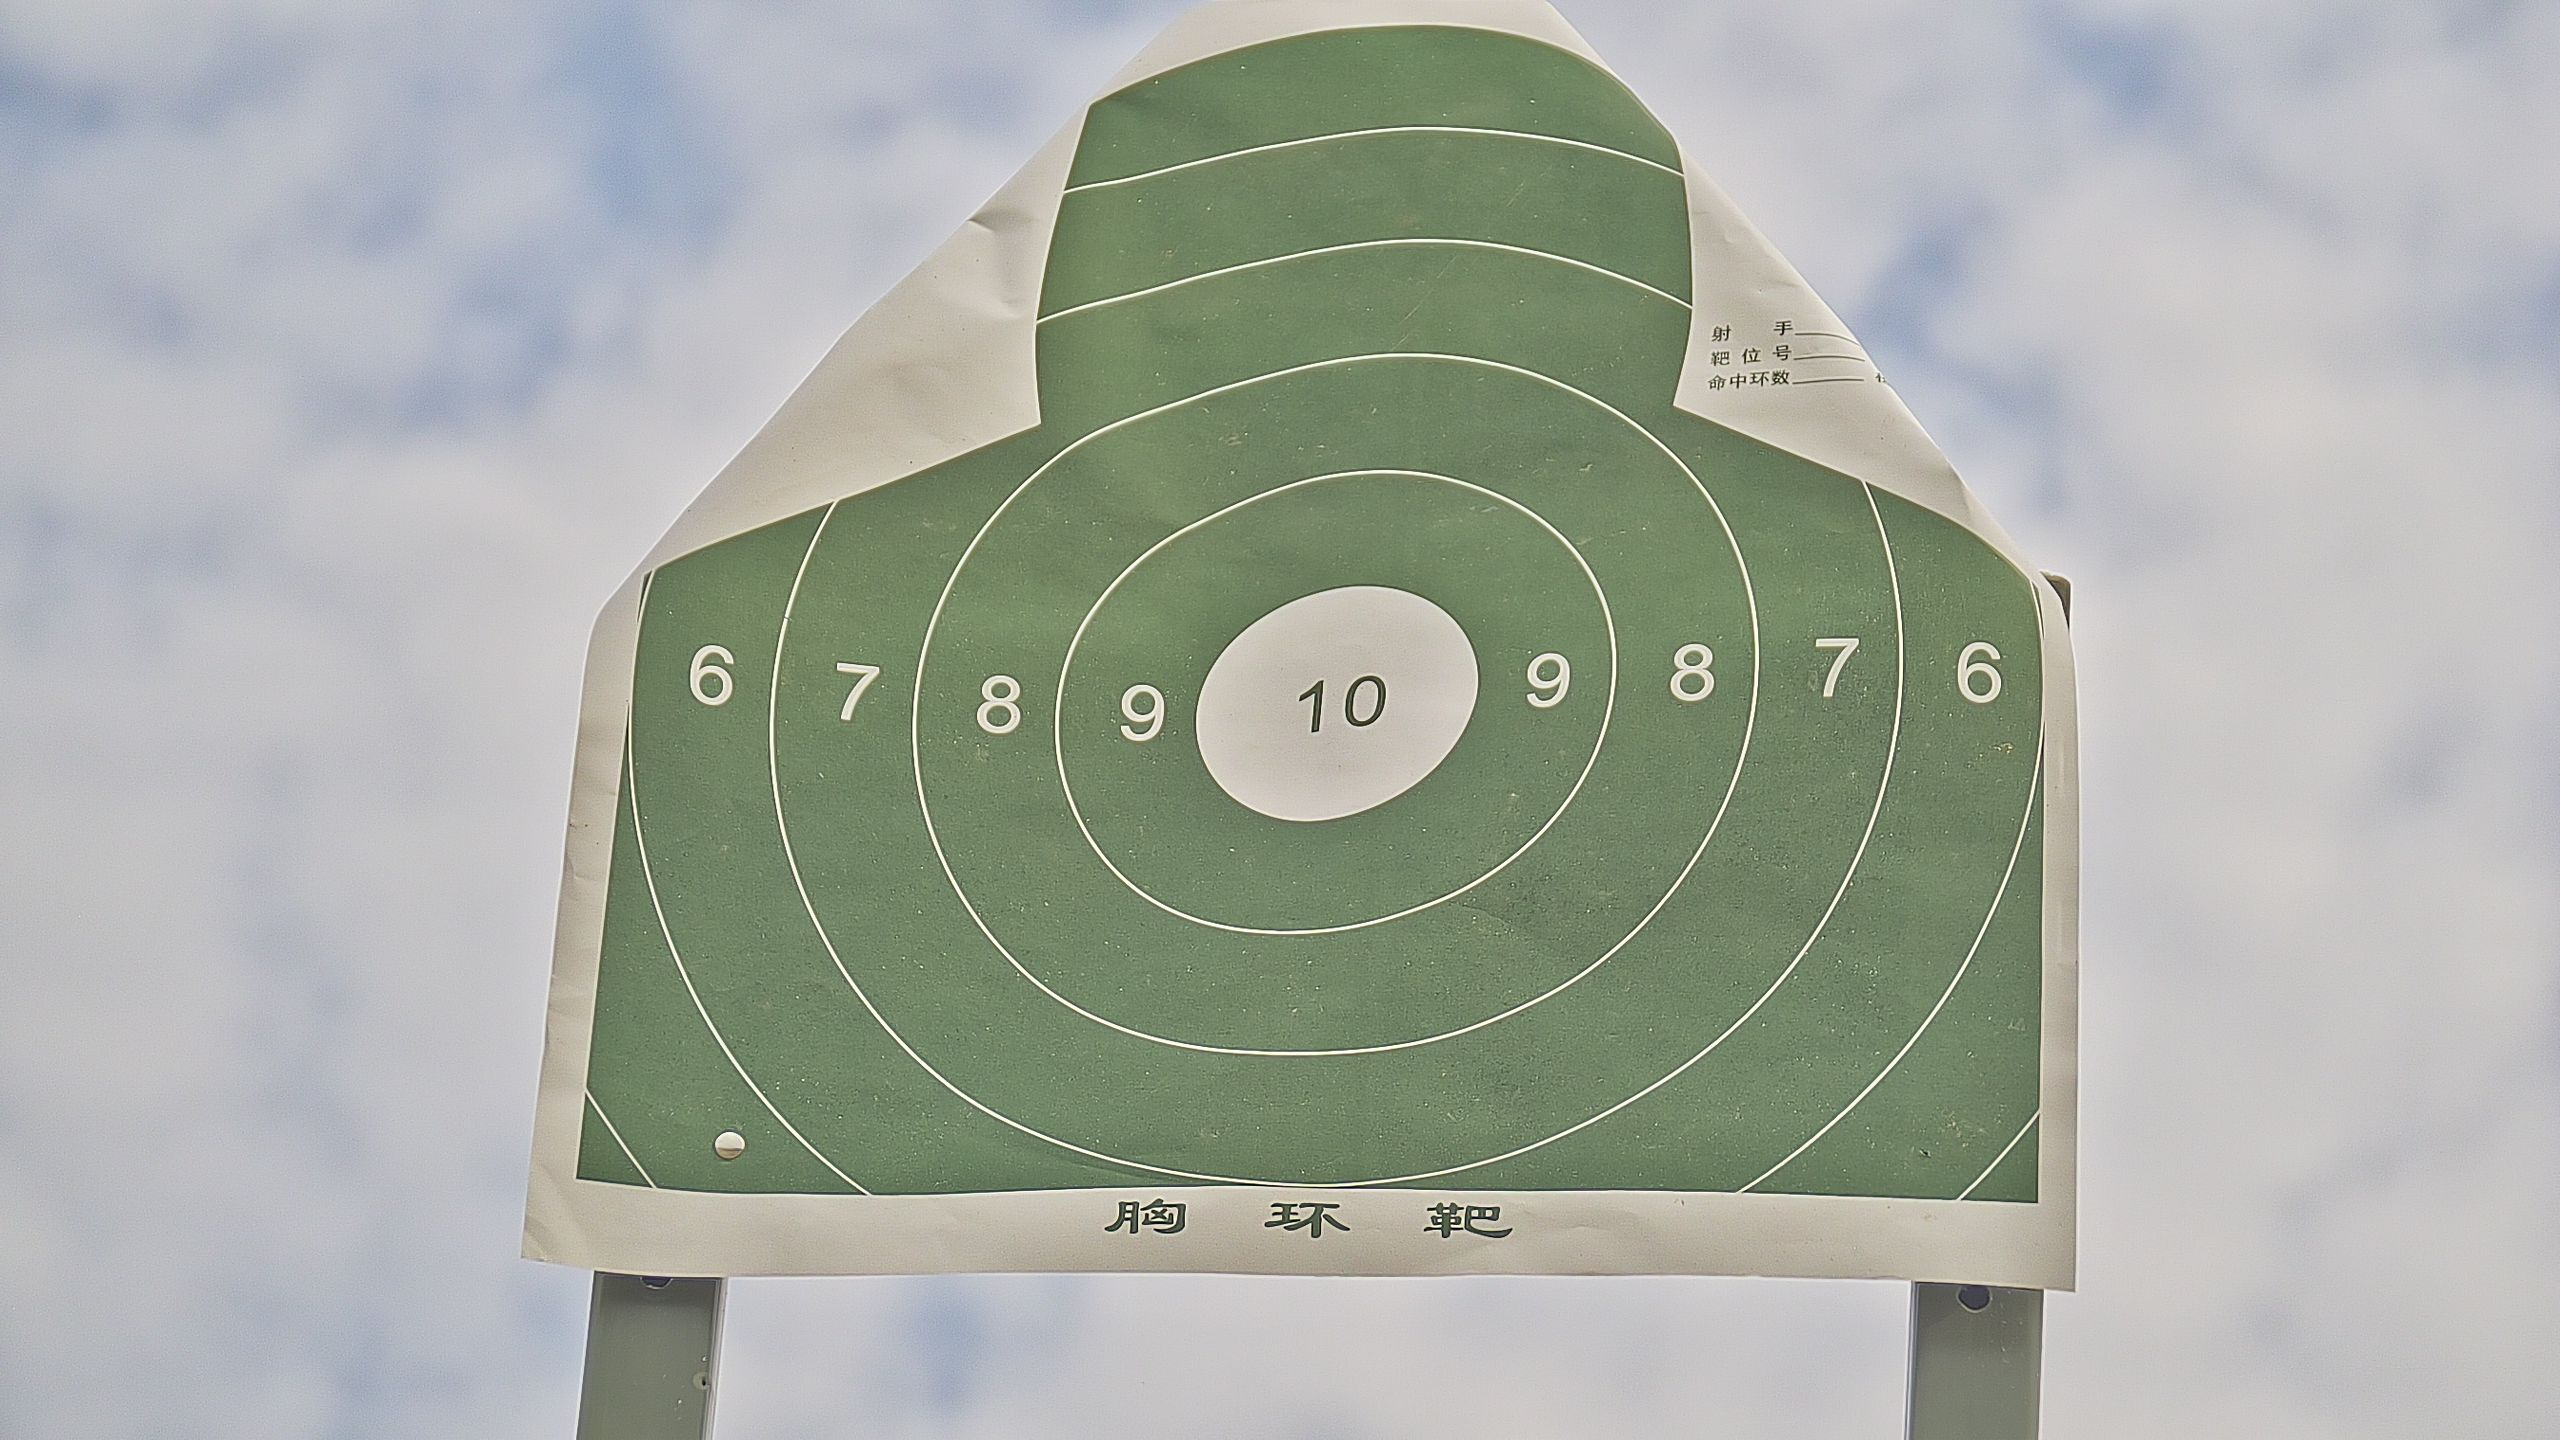kernel: (1333, 705, 1336, 707)
target: (568, 26, 2045, 1206)
ten: (1196, 585, 1482, 826)
